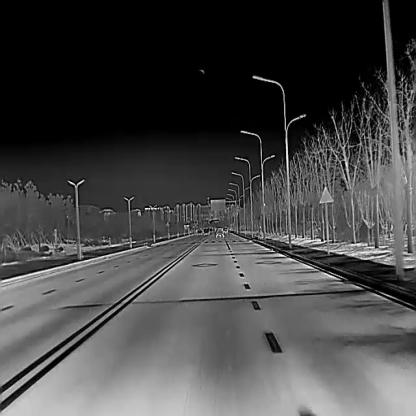car: (214, 227, 224, 237), (223, 227, 227, 233)
